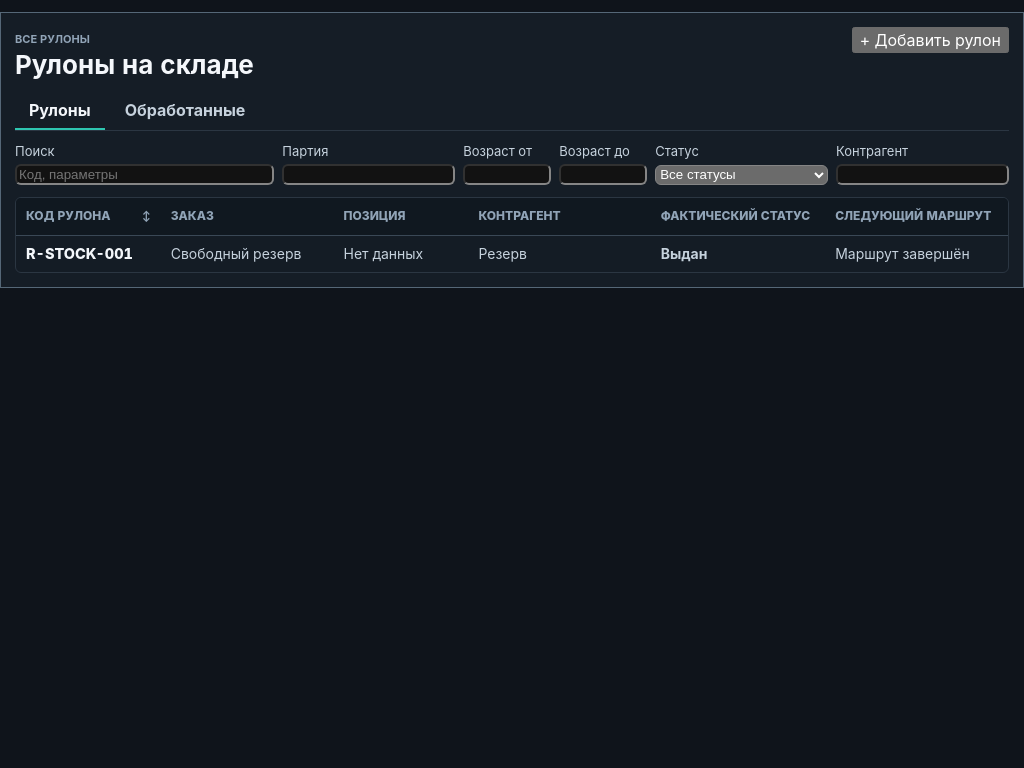
WarehouseFinishedStockPanel › offers platform roll creation only with the dedicated effective capability
The width and height of the screenshot is (1024, 768).
Click the button "+ Добавить рулон" at (930, 40), box [852,27,1009,53]
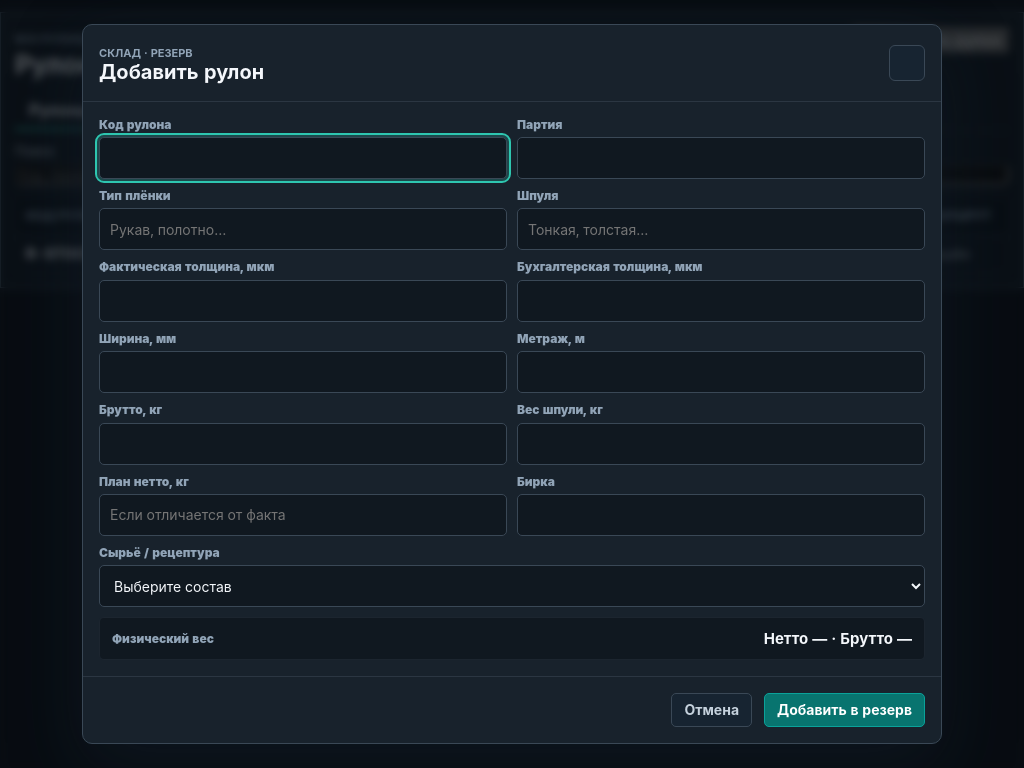
Check: the field labelled "Код рулона" is shown, box [99,137,507,179]
